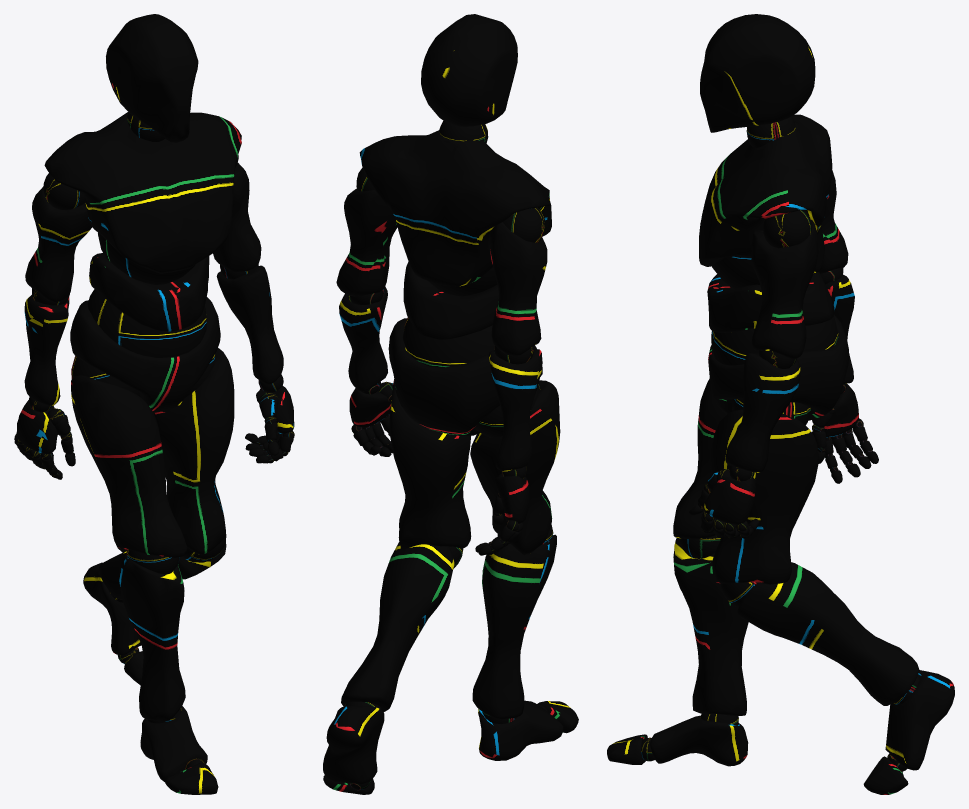
Rendered from y-bot-origin_000011.obj.
3 views of the same model, side by side, from view 1: azimuth 30°, elevation 25°; view 2: azimuth 150°, elevation 25°; view 3: azimuth 270°, elevation 25° (orthographic). The views are drawn at different scales.
Visible parts, largest first — view 1: Alpha_Surface_Alpha_SurfaceMesh, Alpha_Joints_Alpha_JointsMesh; view 2: Alpha_Surface_Alpha_SurfaceMesh, Alpha_Joints_Alpha_JointsMesh; view 3: Alpha_Surface_Alpha_SurfaceMesh, Alpha_Joints_Alpha_JointsMesh.
Boxes of the visible parts, x1=… form: Alpha_Surface_Alpha_SurfaceMesh: x1=14, y1=14, x2=294, y2=794; Alpha_Joints_Alpha_JointsMesh: x1=14, y1=112, x2=294, y2=769; Alpha_Surface_Alpha_SurfaceMesh: x1=323, y1=14, x2=578, y2=794; Alpha_Joints_Alpha_JointsMesh: x1=344, y1=120, x2=553, y2=790; Alpha_Surface_Alpha_SurfaceMesh: x1=607, y1=14, x2=954, y2=794; Alpha_Joints_Alpha_JointsMesh: x1=641, y1=116, x2=919, y2=771.
Size of the model in its own units: 0.5619 by 1.77 by 0.7434.
